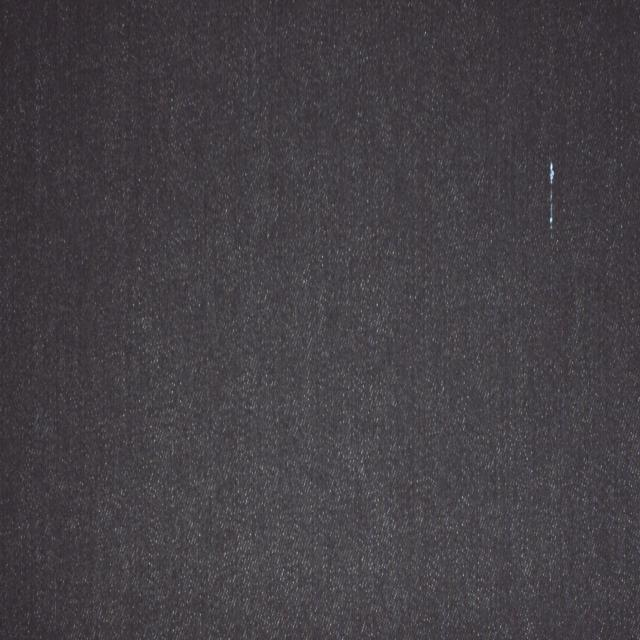Knot: (550, 161, 557, 230)
